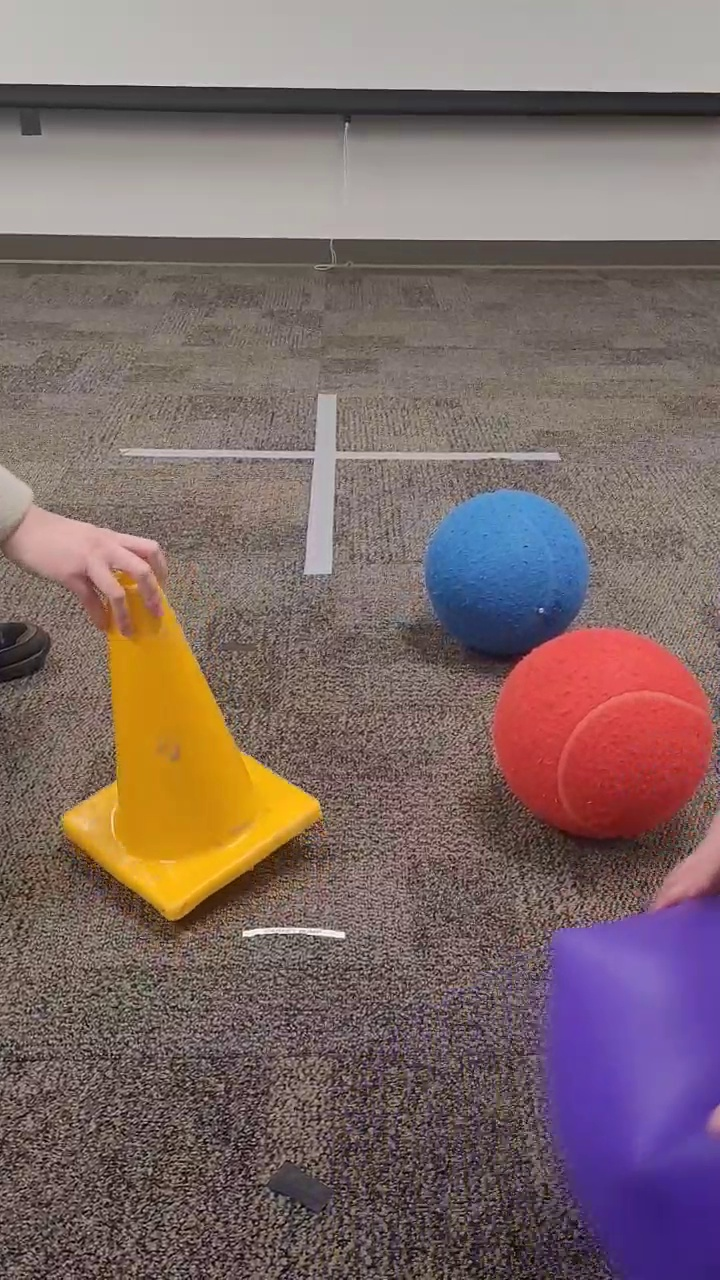ball: (488, 623, 719, 850), (425, 486, 591, 657)
cone: (55, 562, 323, 929)
cube: (539, 885, 718, 1280)
foot: (1, 613, 54, 692)
hand: (1, 454, 176, 637), (654, 806, 720, 913)
